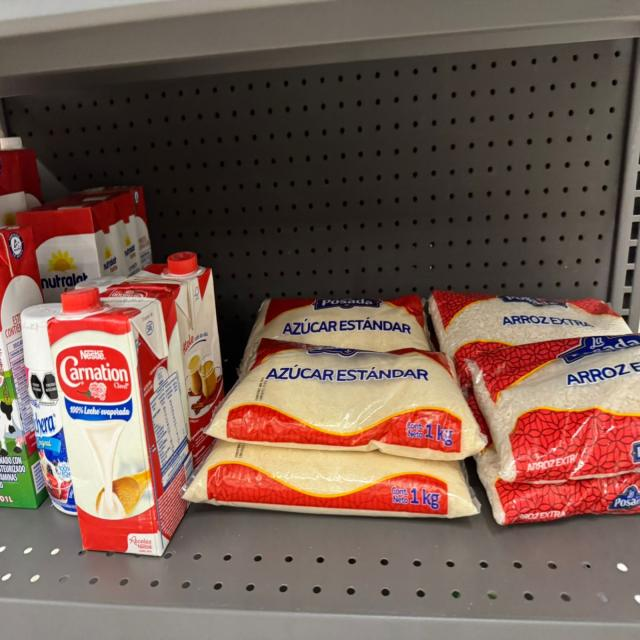Arroz La Posada 900 gr: (466, 330, 640, 483), (428, 294, 637, 392), (473, 442, 640, 532)
Azucar Estandar La Posada 1 kg: (199, 336, 487, 462), (181, 441, 482, 519), (239, 294, 434, 378)
CARNATION Leche Evaporada 720g: (47, 285, 195, 562), (107, 250, 226, 471)
La Lechera Sirve Facil 335gr Bote: (20, 301, 77, 516)
PLC NUTRALAT FORTE 1 LT: (15, 191, 143, 303), (0, 225, 49, 511)
